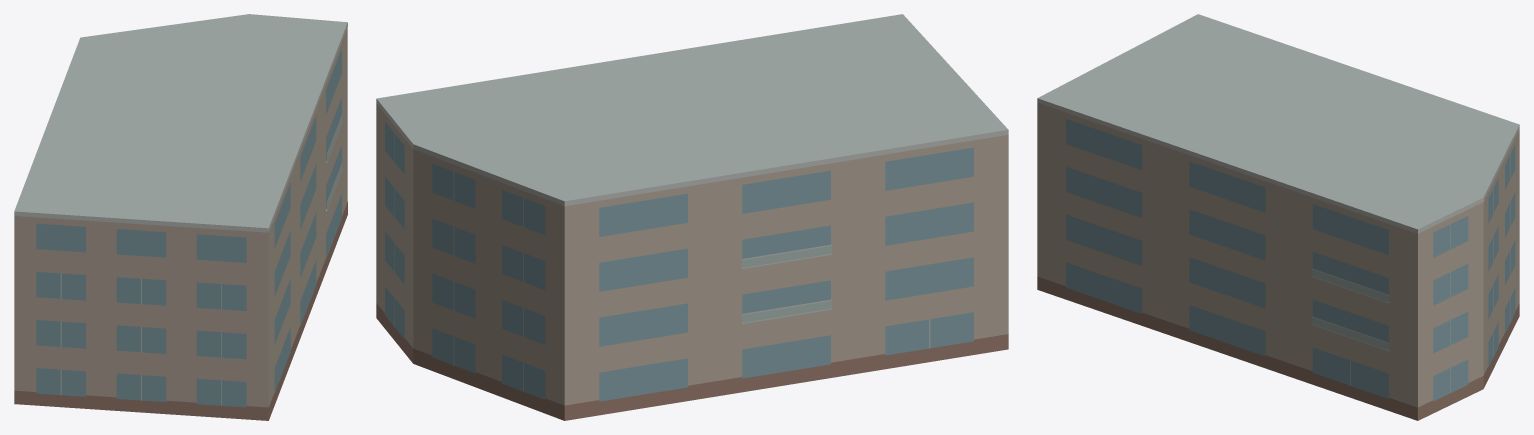
File: survey-upis-32851375.glb
3 views of the same model, side by side, from view 1: azimuth 30°, elevation 25°; view 2: azimuth 150°, elevation 25°; view 3: azimuth 270°, elevation 25° (orthographic). The views are drawn at different scales.
Parts seen in each view (by area): view 1: survey-upis-32851375.tmp; view 2: survey-upis-32851375.tmp; view 3: survey-upis-32851375.tmp.
Boxes of the visible parts, x1,y1,x2,y2 form: survey-upis-32851375.tmp: (14,14,347,420); survey-upis-32851375.tmp: (376,14,1008,420); survey-upis-32851375.tmp: (1037,14,1519,420).
Bounding box in the file's own units: 25.82 × 10.7 × 24.43.
